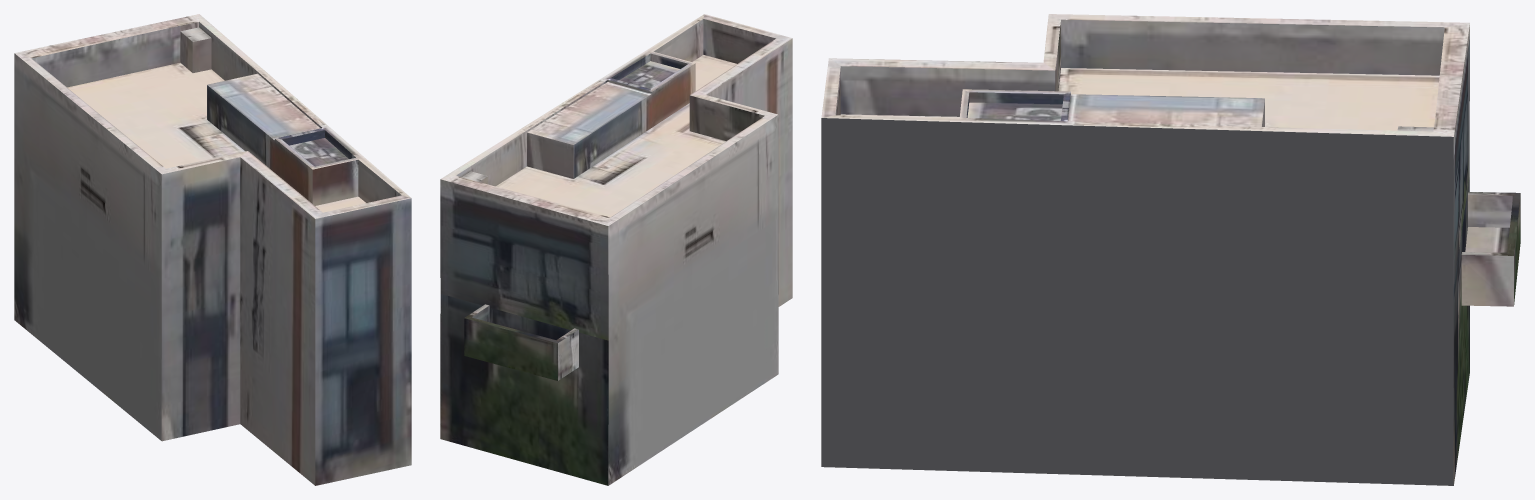
The picture shows the model from 3 angles, left to right: view 1: azimuth 30°, elevation 25°; view 2: azimuth 150°, elevation 25°; view 3: azimuth 270°, elevation 25°; orthographic projection. The views are drawn at different scales.
Visible parts, largest first — view 1: B284914034401062A0; view 2: B284914034401062A0; view 3: B284914034401062A0.
Boxes of the visible parts, x1,y1,x2,y2 form: B284914034401062A0: (14,14,411,485); B284914034401062A0: (440,14,792,485); B284914034401062A0: (821,14,1520,485).
Bounding box in the file's own units: 6.78 × 8.98 × 16.3.
1 material, 1 textured.
